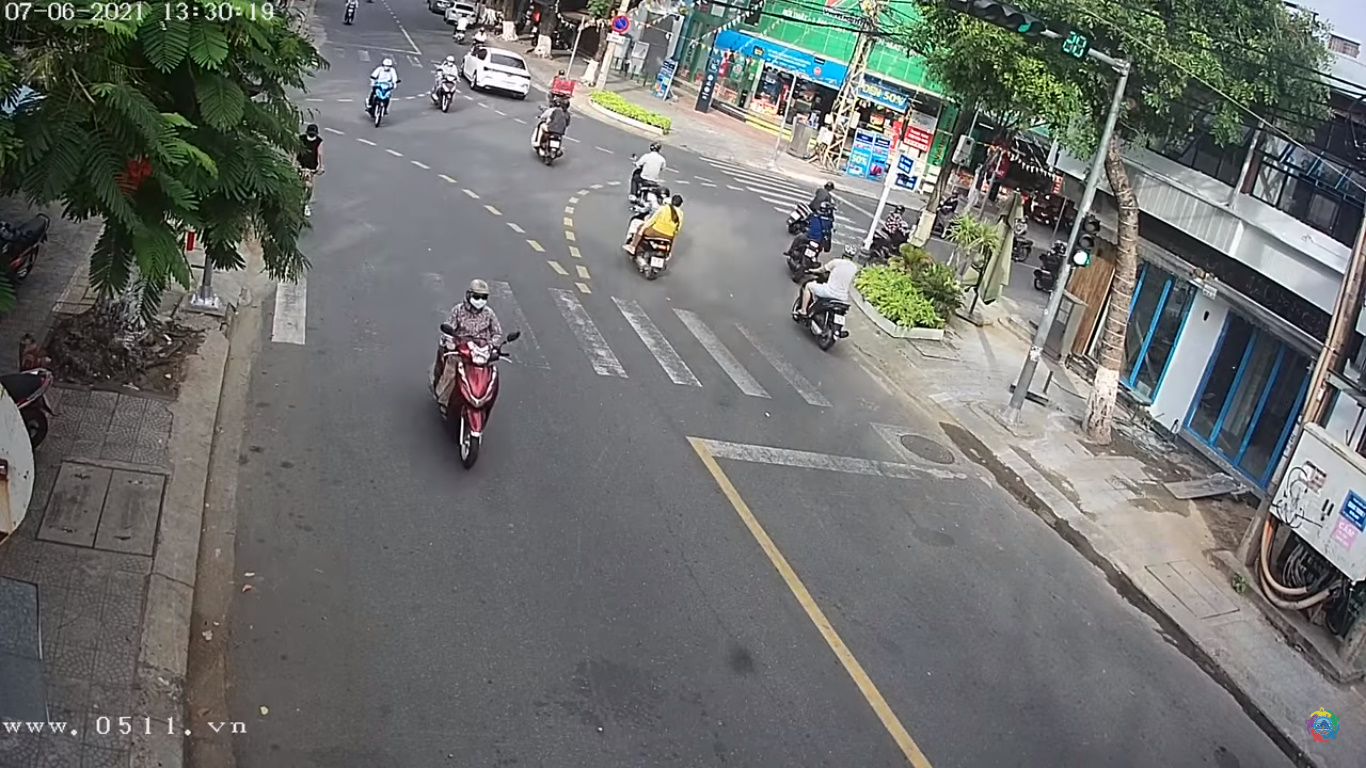motorbike: (434, 279, 512, 470)
